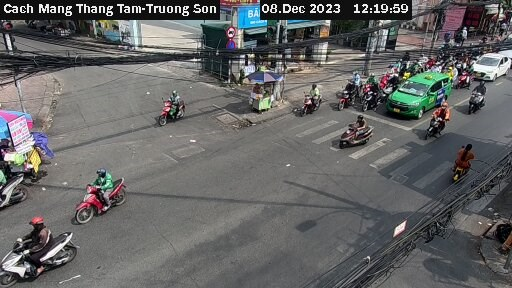car: (388, 68, 450, 120), (472, 49, 508, 81)
motorbike: (1, 219, 85, 284), (76, 165, 133, 220), (330, 115, 385, 153), (293, 83, 335, 120), (1, 164, 32, 210), (157, 91, 197, 125), (464, 79, 497, 118), (444, 143, 476, 182), (427, 104, 459, 142)
